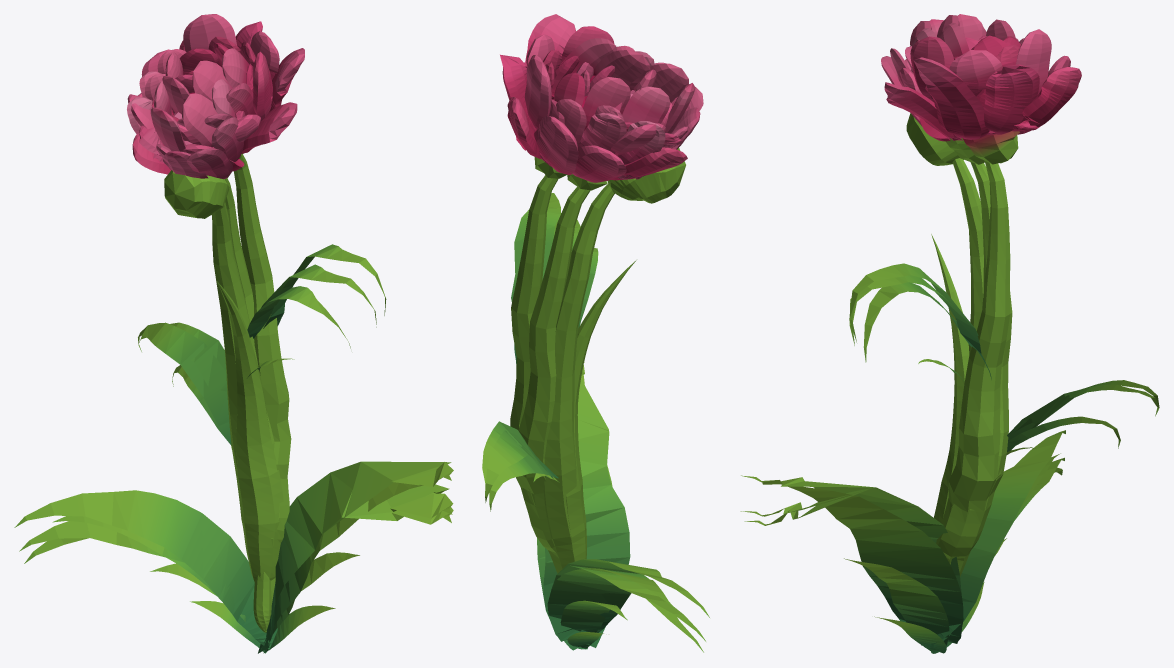
The model's file is bloomrose.fbx.
The picture shows the model from 3 angles, left to right: view 1: azimuth 30°, elevation 25°; view 2: azimuth 150°, elevation 25°; view 3: azimuth 270°, elevation 25°; orthographic projection. The views are drawn at different scales.
Parts seen in each view (by area): view 1: rose; view 2: rose; view 3: rose.
Boxes of the visible parts, x1,y1,x2,y2 form: rose: (14, 14, 453, 653); rose: (482, 14, 709, 652); rose: (740, 14, 1159, 653).
Bounding box in the file's own units: 0.2228 × 0.4281 × 0.263.
